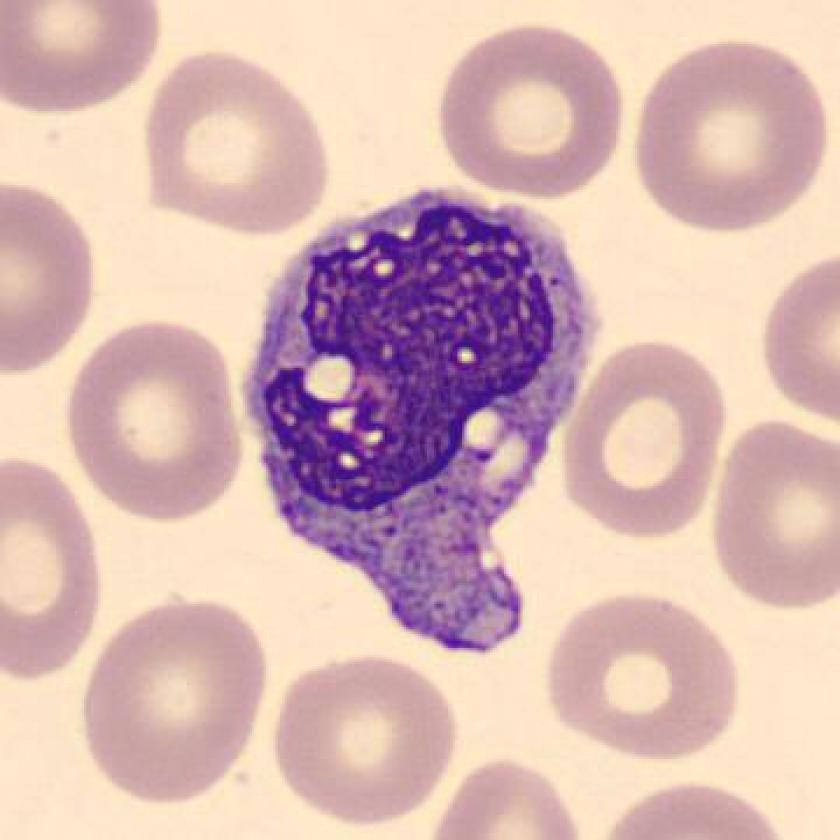monocyte: (230, 168, 619, 672)
